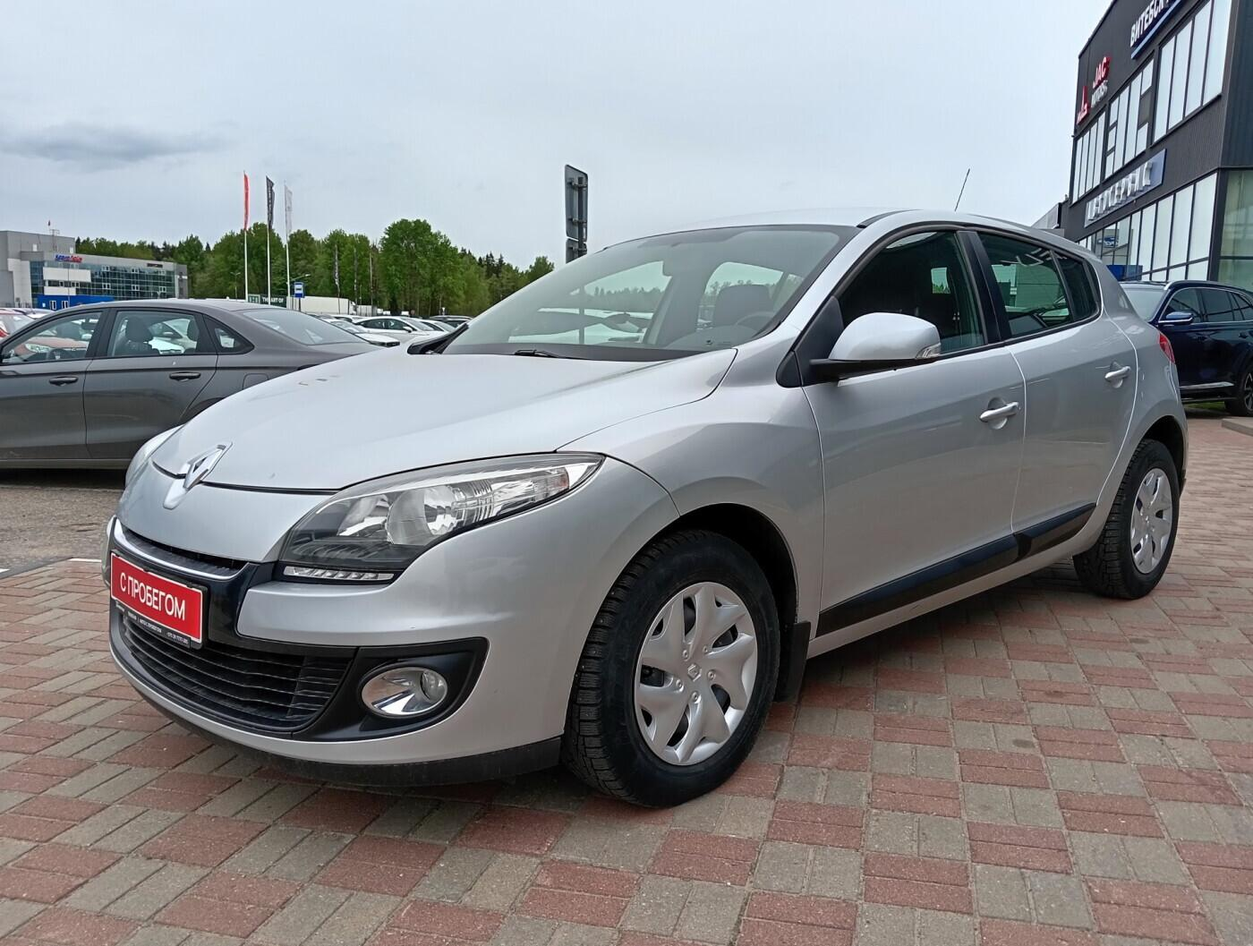Megane_2012-2014: (98, 203, 1197, 820)
